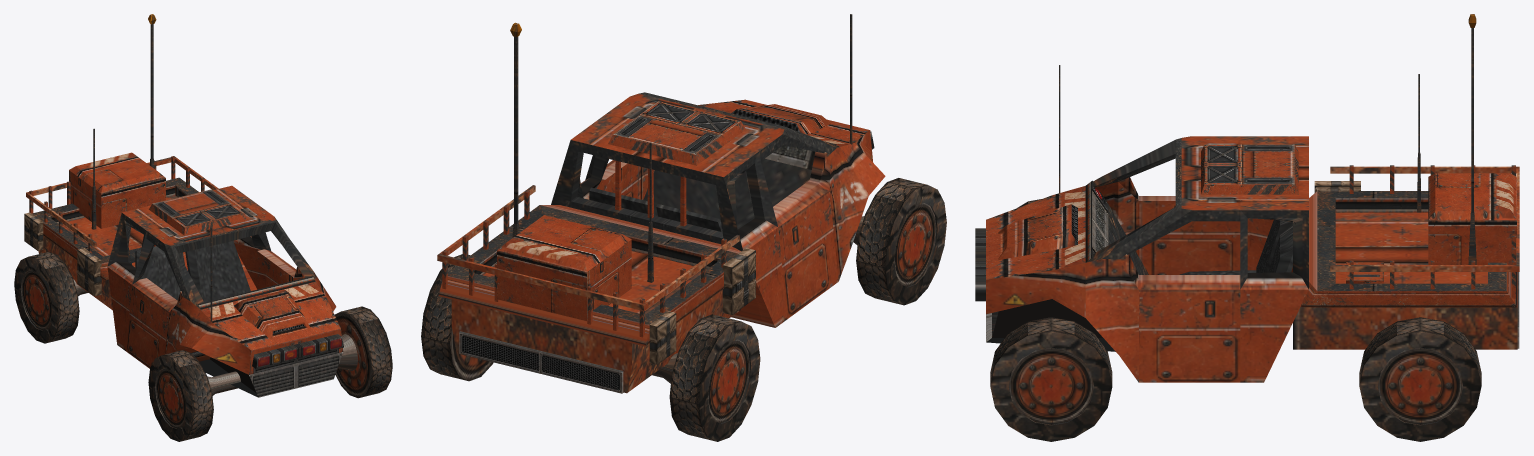
Rendered from kutu.dae.
3 views of the same model, side by side, from view 1: azimuth 30°, elevation 25°; view 2: azimuth 150°, elevation 25°; view 3: azimuth 270°, elevation 25° (orthographic). The views are drawn at different scales.
Visible parts, largest first — view 1: KUTU; view 2: KUTU; view 3: KUTU.
Part boxes in pixels (<box>): KUTU: <box>14,14,392,441</box>; KUTU: <box>421,14,946,441</box>; KUTU: <box>975,14,1519,441</box>.
Size of the model in its own units: 7.83 by 13.43 by 10.44.
